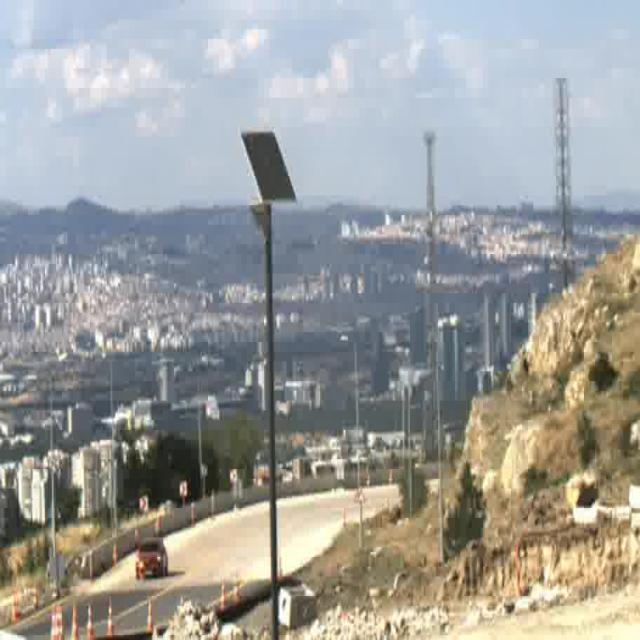Car: (134, 536, 168, 580)
